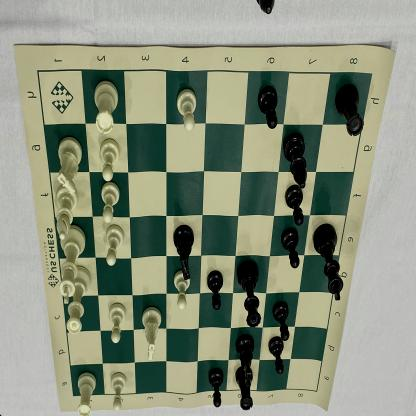black-king: (312, 221, 344, 305)
black-knight: (281, 131, 312, 190)
black-pawn: (253, 86, 280, 132), (283, 183, 306, 229), (280, 226, 301, 271), (206, 366, 226, 410), (206, 270, 226, 314), (272, 300, 292, 342), (266, 336, 286, 376)
black-queen: (235, 256, 262, 331)
black-rook: (333, 83, 365, 140), (234, 365, 255, 414)
white-bishop: (52, 185, 80, 243)
white-king: (56, 224, 88, 306)
white-knight: (53, 136, 83, 197), (171, 224, 196, 281), (139, 306, 164, 363), (234, 334, 256, 389)
white-pawn: (175, 87, 198, 135), (97, 138, 121, 183), (98, 182, 122, 224), (106, 301, 128, 345), (103, 223, 124, 266), (172, 269, 192, 312), (108, 372, 128, 413)
white-queen: (64, 265, 92, 337)
white-rook: (91, 79, 120, 136), (74, 372, 98, 416)
